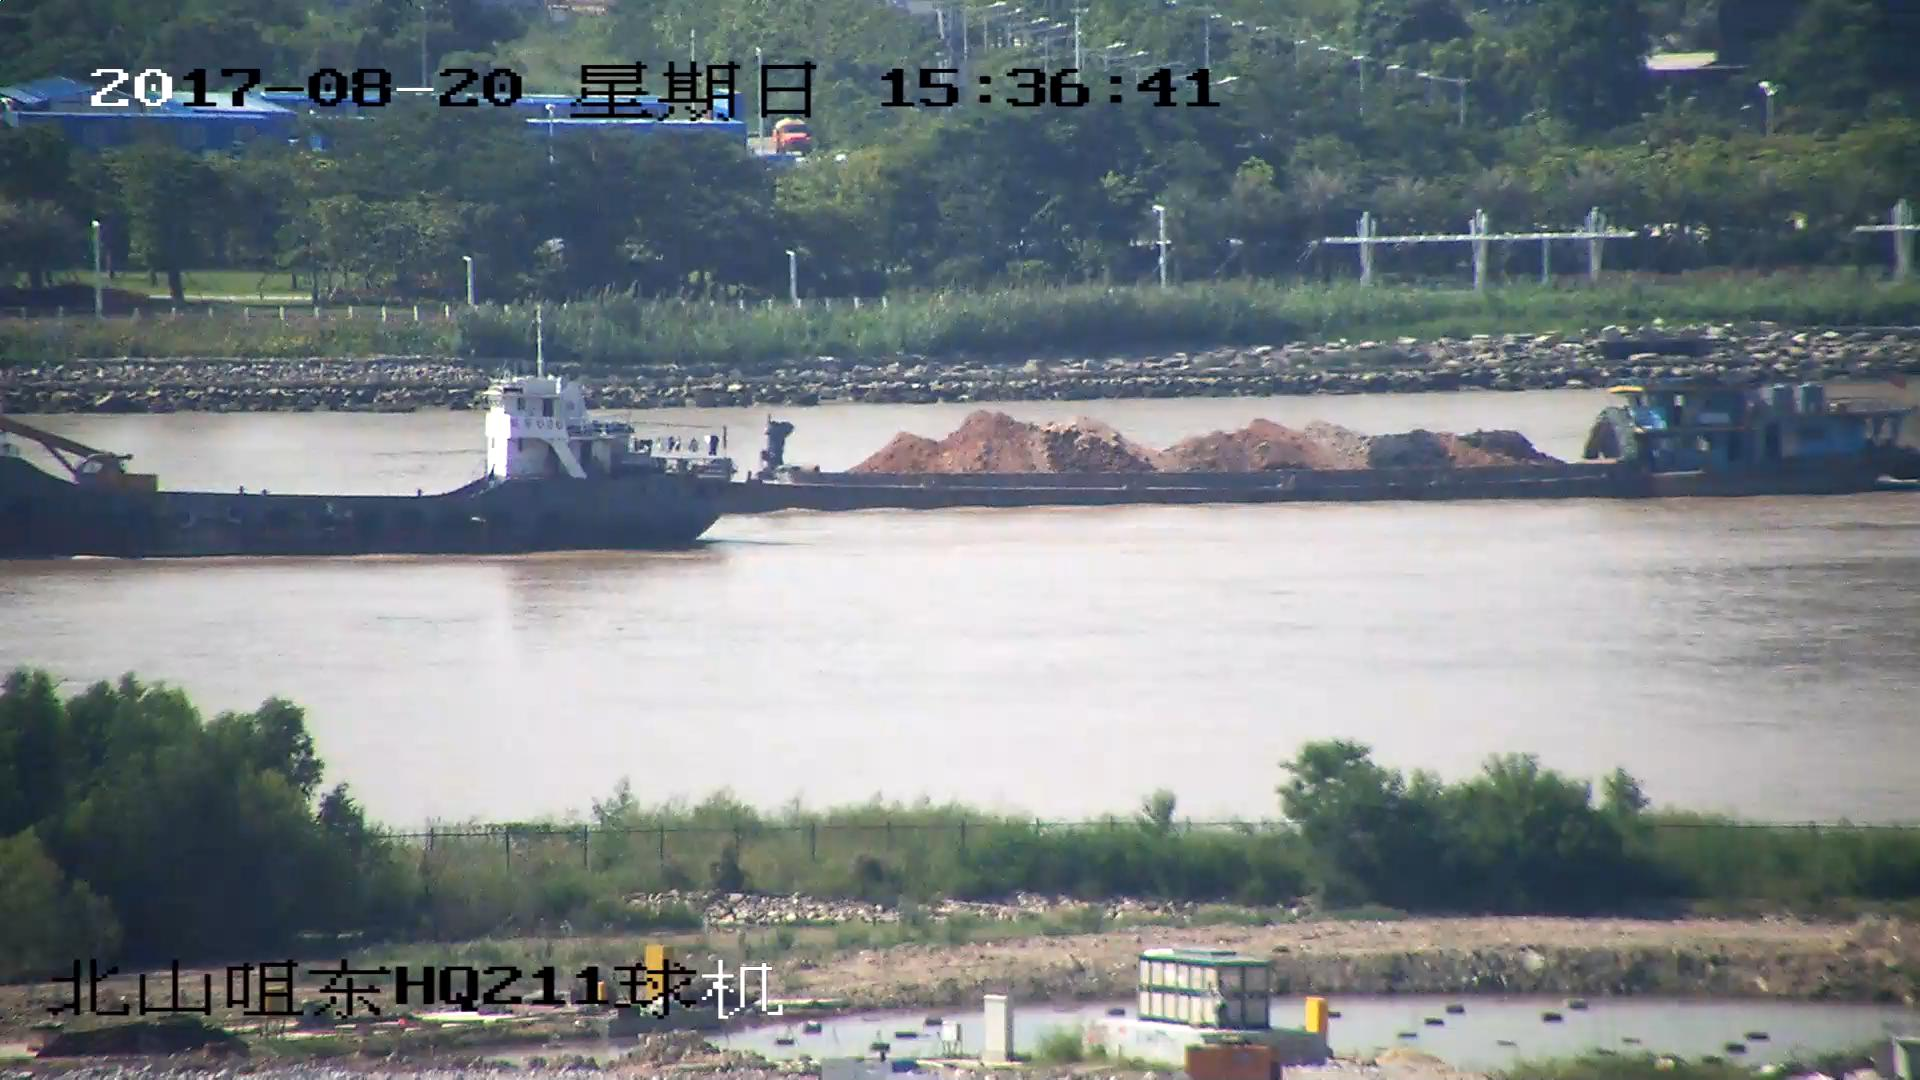general cargo ship: (1, 312, 755, 557)
ore carrier: (668, 378, 1920, 504)
